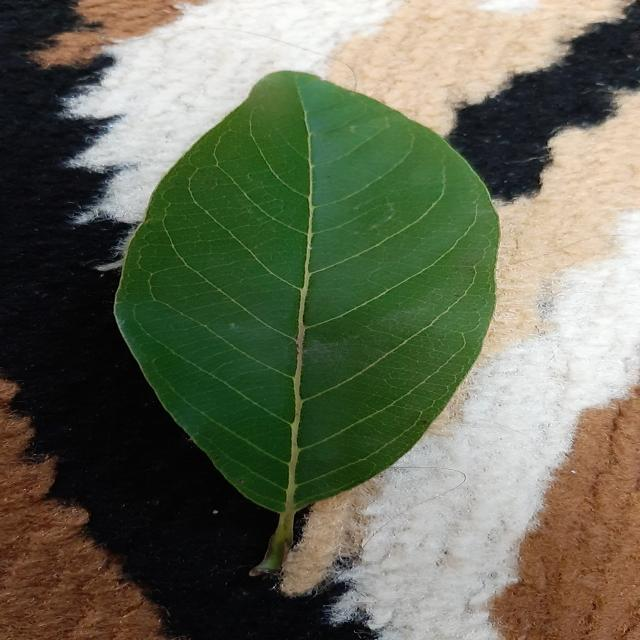seethaphala: (117, 71, 499, 574)
